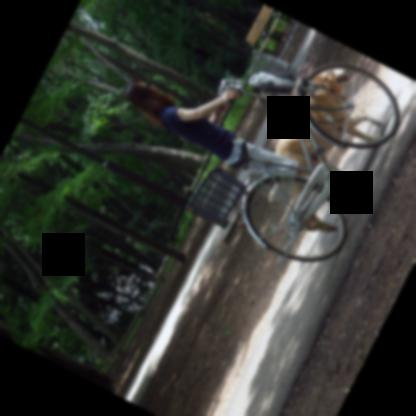handbag: (249, 70, 294, 87)
